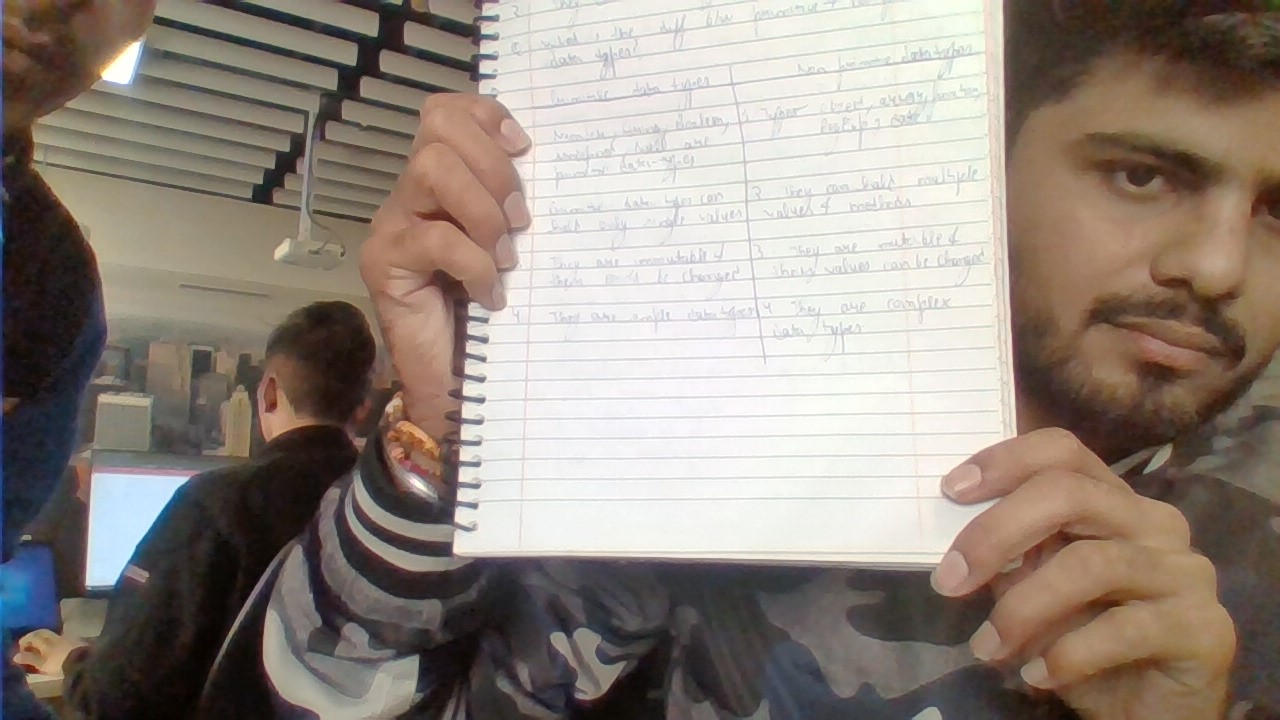partial: (447, 1, 1044, 582)
